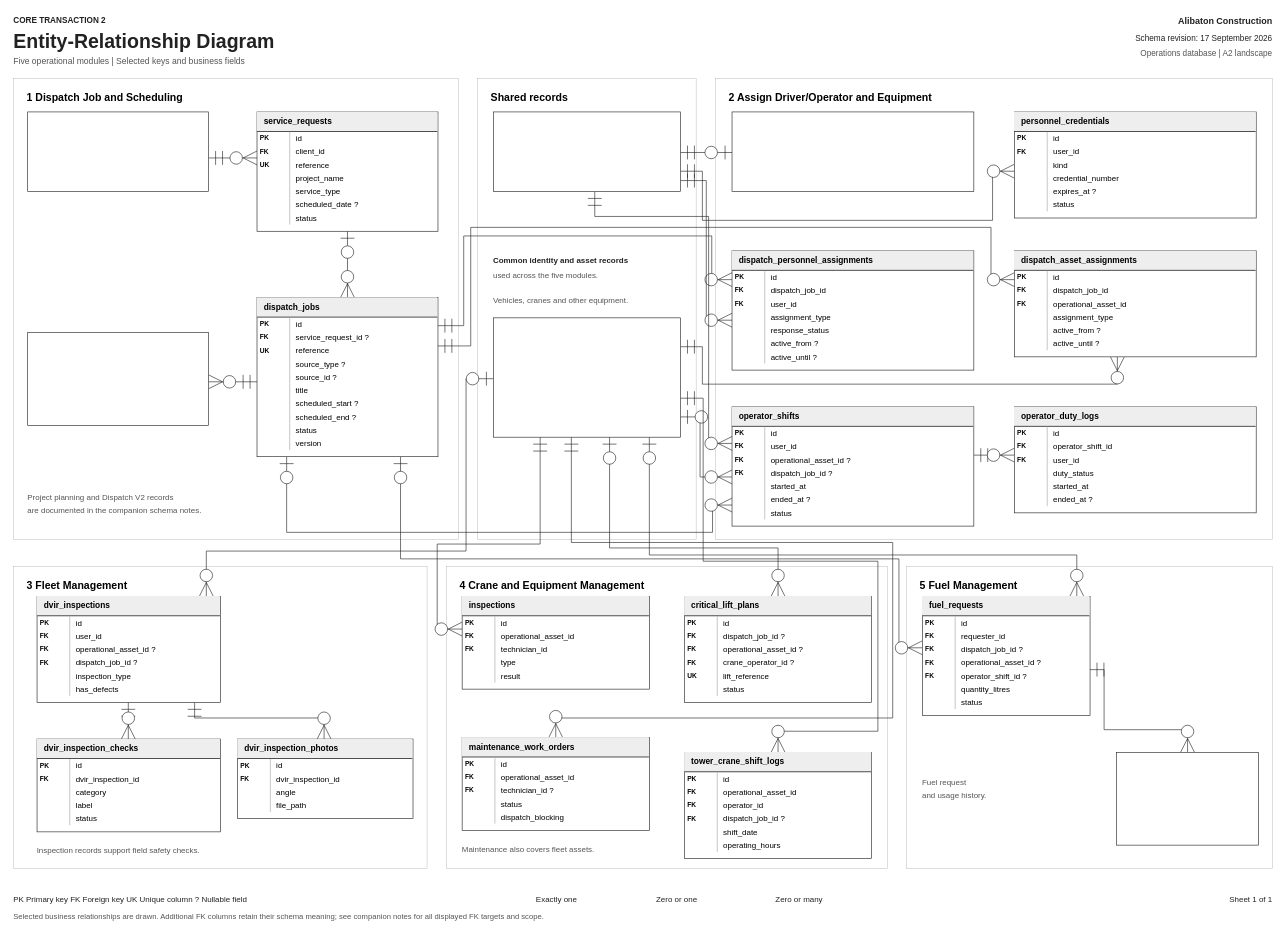
Image size: 1286x936. Some labels were removed from this diagram. Each missing label, with the centre of its shape:
"clients PK id UK code company_name status" belongs at point (118, 151).
"fuel_logs PK id FK fuel_request_id FK recorded_by quantity_litres recorded_at" belongs at point (1187, 798).
"job_reports PK id FK dispatch_job_id FK author_id work_summary status" belongs at point (118, 378).
"operational_assets PK id UK code name kind status rated_capacity ? meter_value ?" belongs at point (586, 377).
"personnel_profiles PK id FK/UK user_id UK employee_number ? availability_status" belongs at point (852, 151).
"users PK id UK username name is_active" belongs at point (586, 151).
